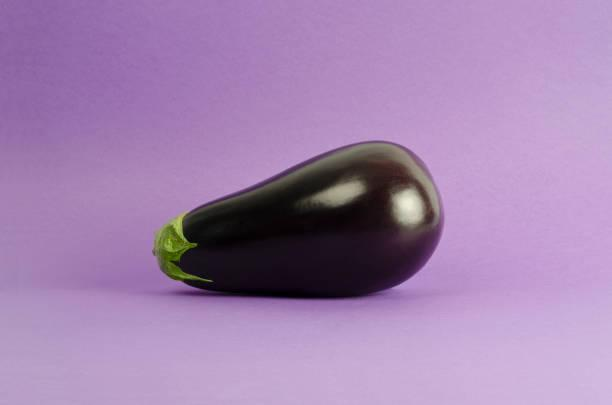Brinjal: (148, 137, 444, 297)
